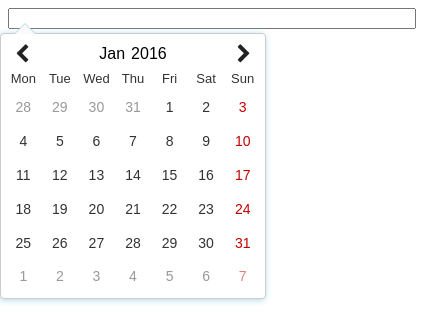
it: AngularMyDatePickerComponent › select previous month year change
Click the 1st button with class "myDpHeaderBtn". click: (22, 53)
box: [15, 39, 29, 67]
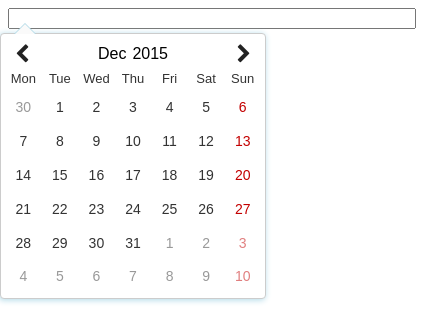
Result: the button with class "myDpMonthBtn" reads "Dec" at [98, 39, 126, 67]
Result: the button with class "myDpYearBtn" reads "2015" at [132, 39, 168, 67]
